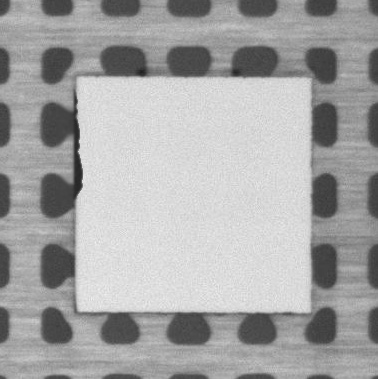DIE_BROKEN: (71, 91, 85, 202)
